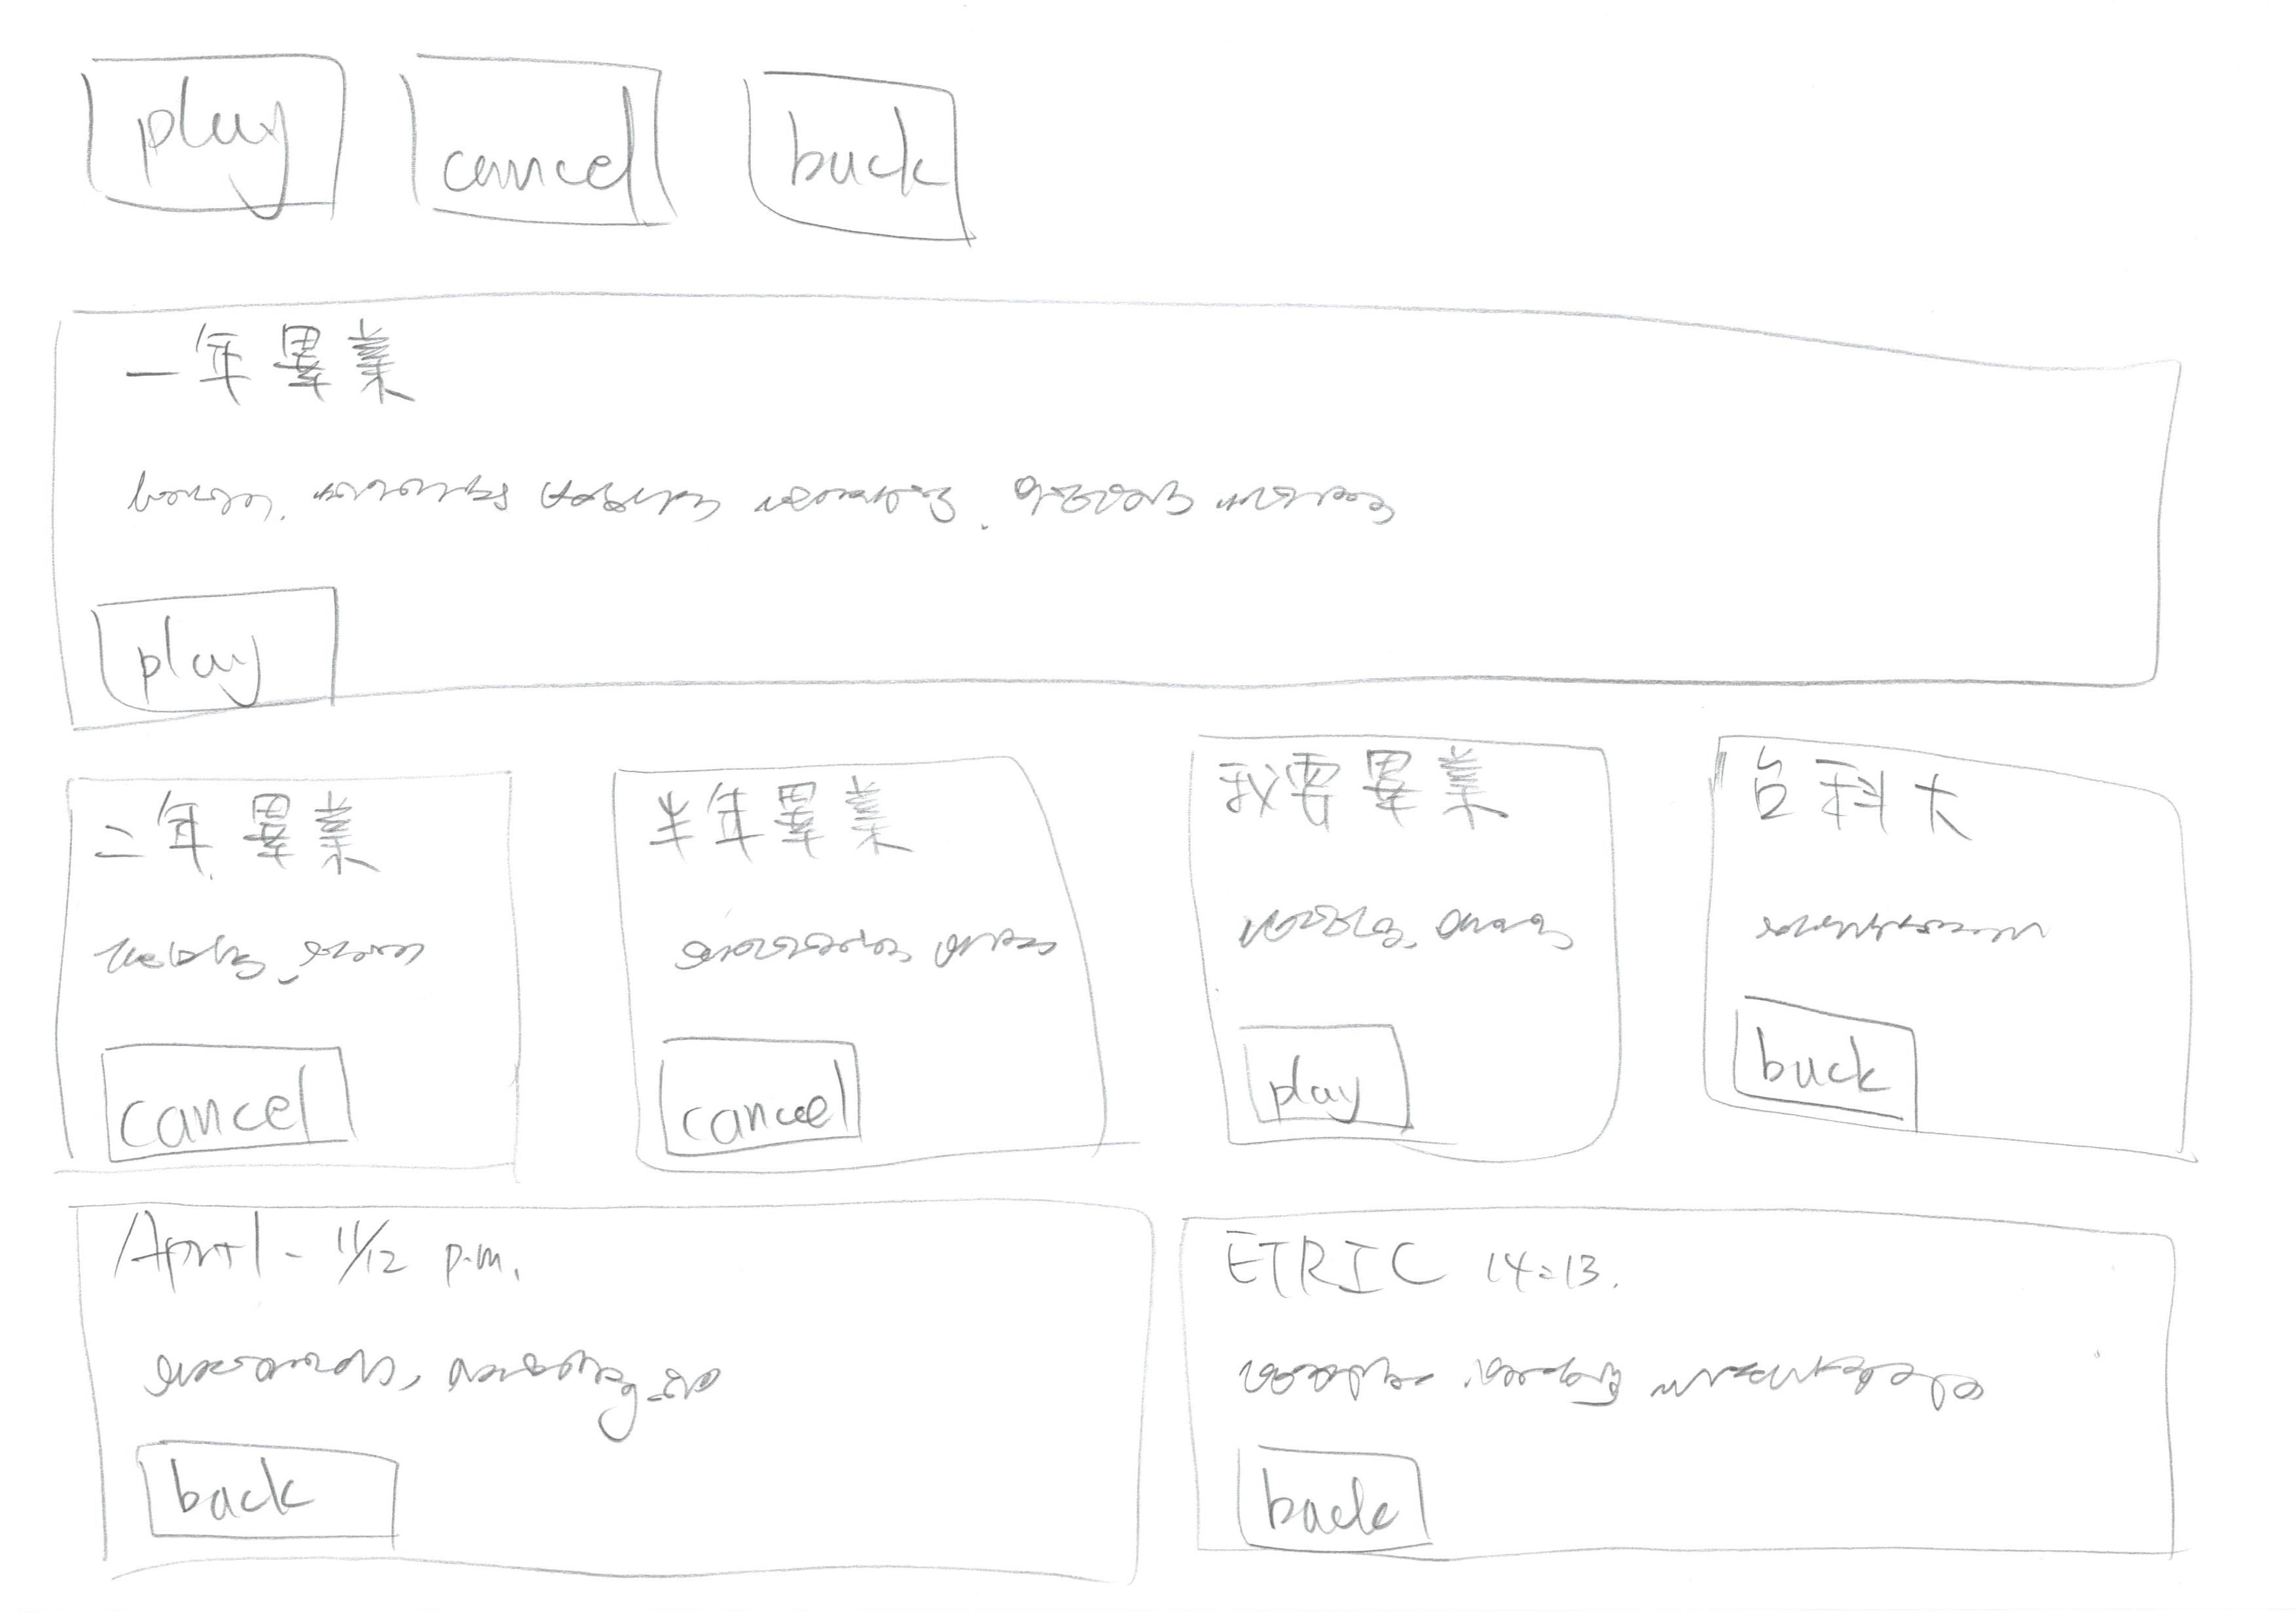back: (714, 35, 1016, 267), (1224, 1411, 1503, 1585), (1711, 963, 1955, 1139)
cancel: (390, 33, 707, 255), (643, 1019, 883, 1176)
double: (47, 1185, 1169, 1619), (1101, 1192, 2222, 1624)
play: (72, 44, 378, 253), (81, 1004, 385, 1169), (76, 585, 390, 743), (1217, 998, 1438, 1153)
quadruple: (32, 745, 577, 1202), (577, 728, 1122, 1185), (1127, 724, 1670, 1181), (1660, 721, 2203, 1178)
row: (23, 696, 2296, 1207), (35, 244, 2292, 707), (25, 1169, 2296, 1603), (40, 0, 2292, 250)
single: (32, 260, 2252, 710)
small-title: (1232, 1220, 1644, 1322), (1730, 754, 2011, 877), (628, 777, 932, 875), (1227, 750, 1540, 844), (104, 1214, 529, 1276), (77, 794, 387, 875), (128, 330, 471, 401)
text: (128, 422, 1401, 538), (1243, 1325, 2024, 1411), (176, 1341, 751, 1425), (670, 905, 1050, 972), (74, 923, 441, 977), (1227, 900, 1570, 954), (1763, 909, 2036, 956)
